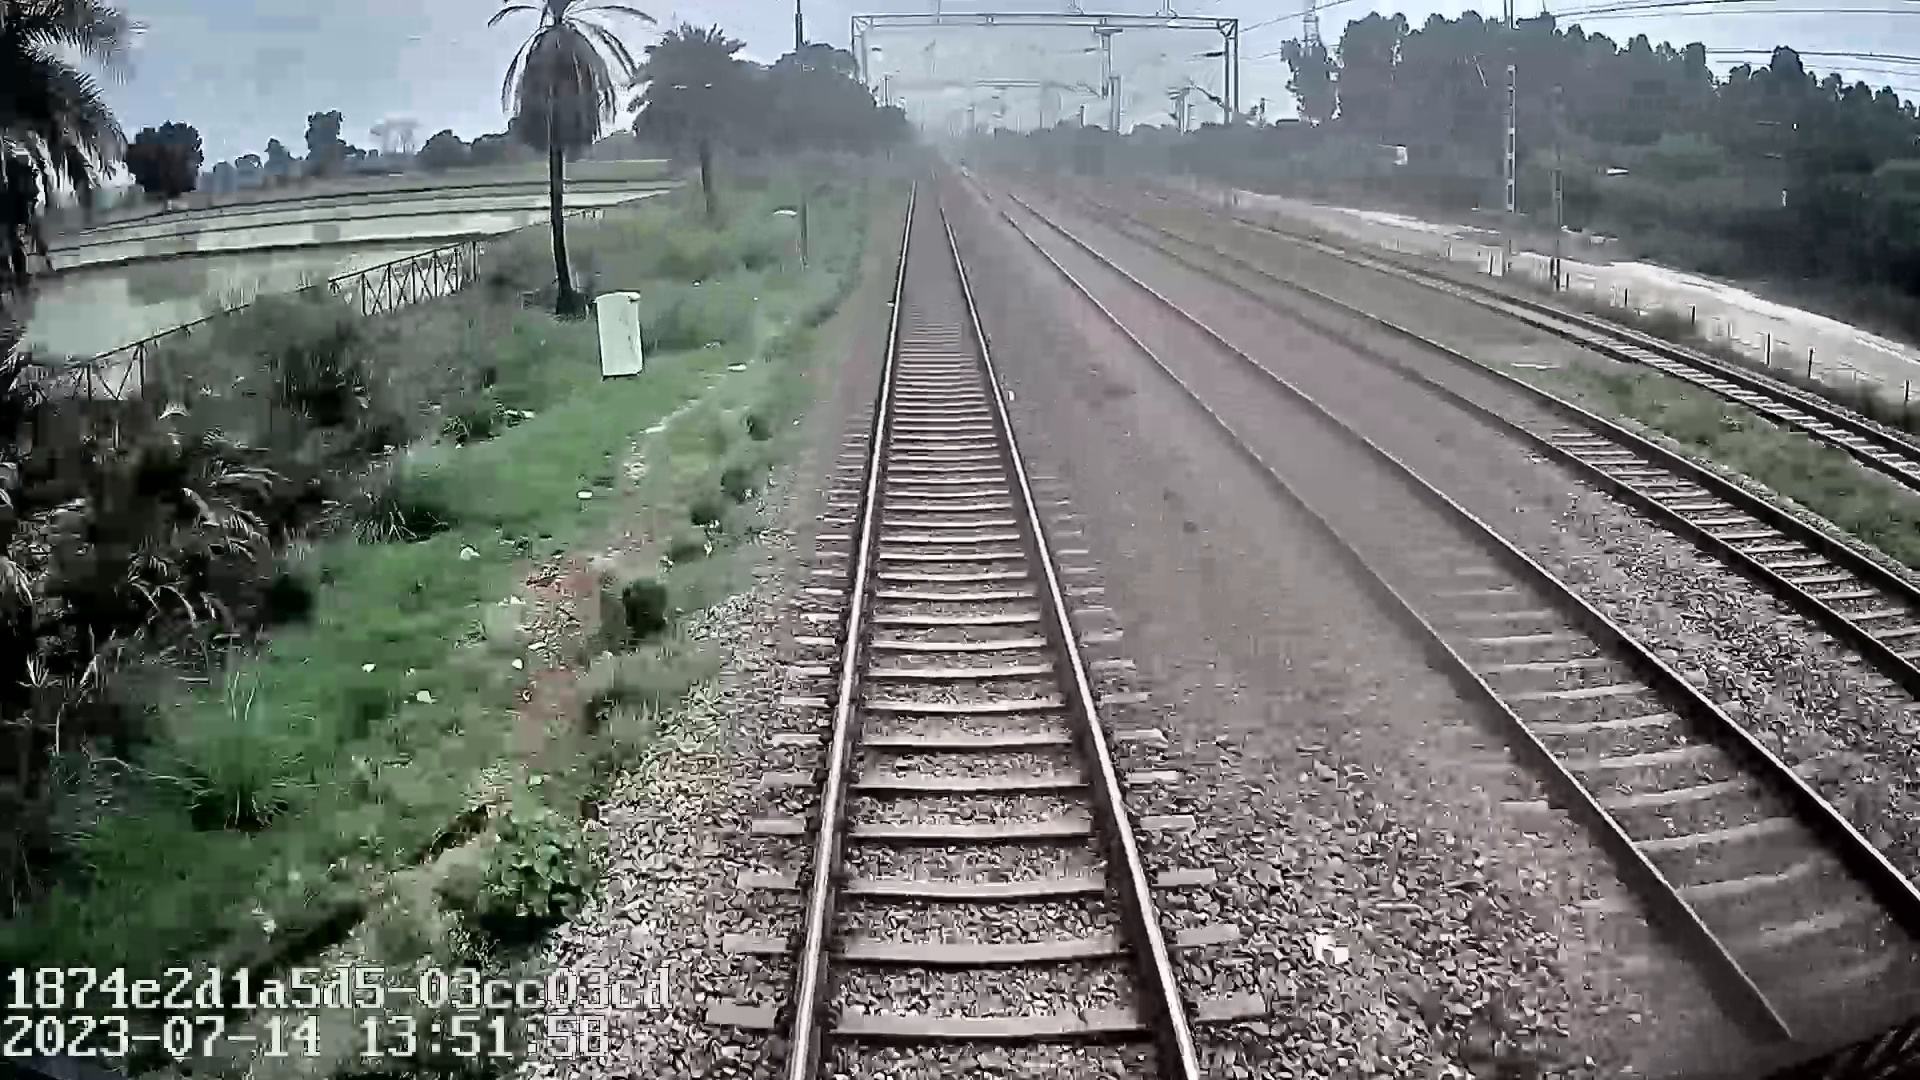track1: (799, 219, 1184, 1056)
track2: (1007, 218, 1907, 968)
track3: (1130, 228, 1919, 655)
track4: (1335, 251, 1915, 473)
